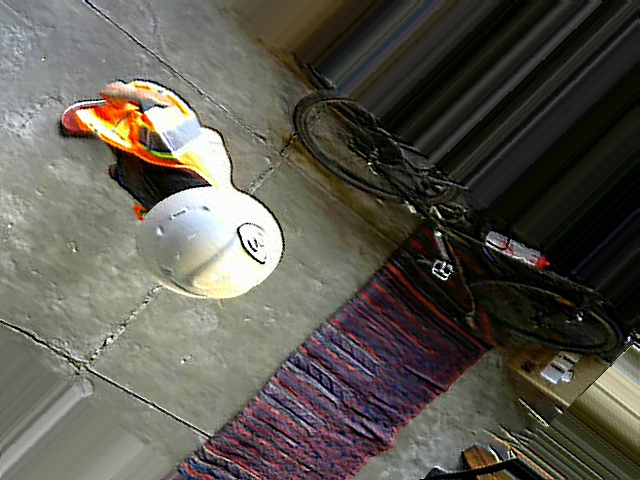three: (228, 218, 282, 263)
